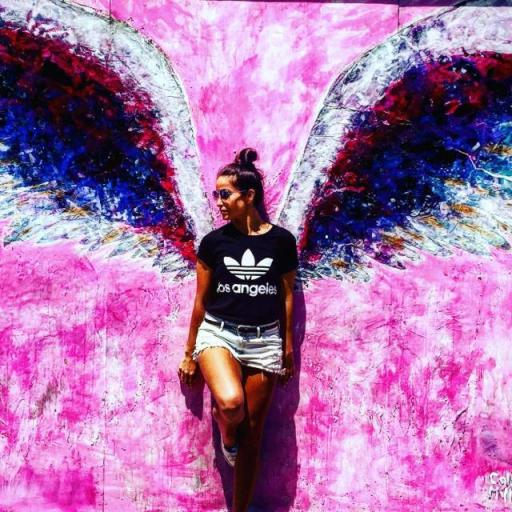Adidas: (218, 247, 276, 283)
